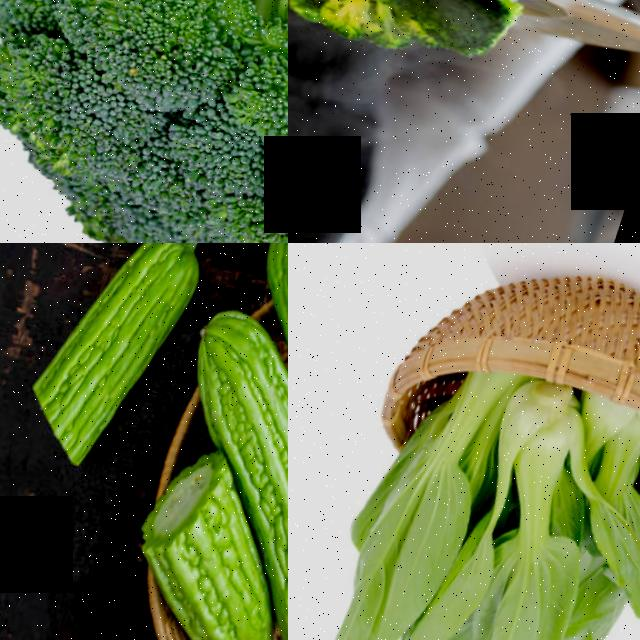bitter gourd: (0, 243, 237, 521), (100, 480, 288, 640), (165, 319, 288, 458)
bok choy: (335, 332, 506, 640), (447, 382, 640, 640), (584, 407, 640, 640)
broccoli: (0, 0, 288, 243), (288, 0, 550, 74)
